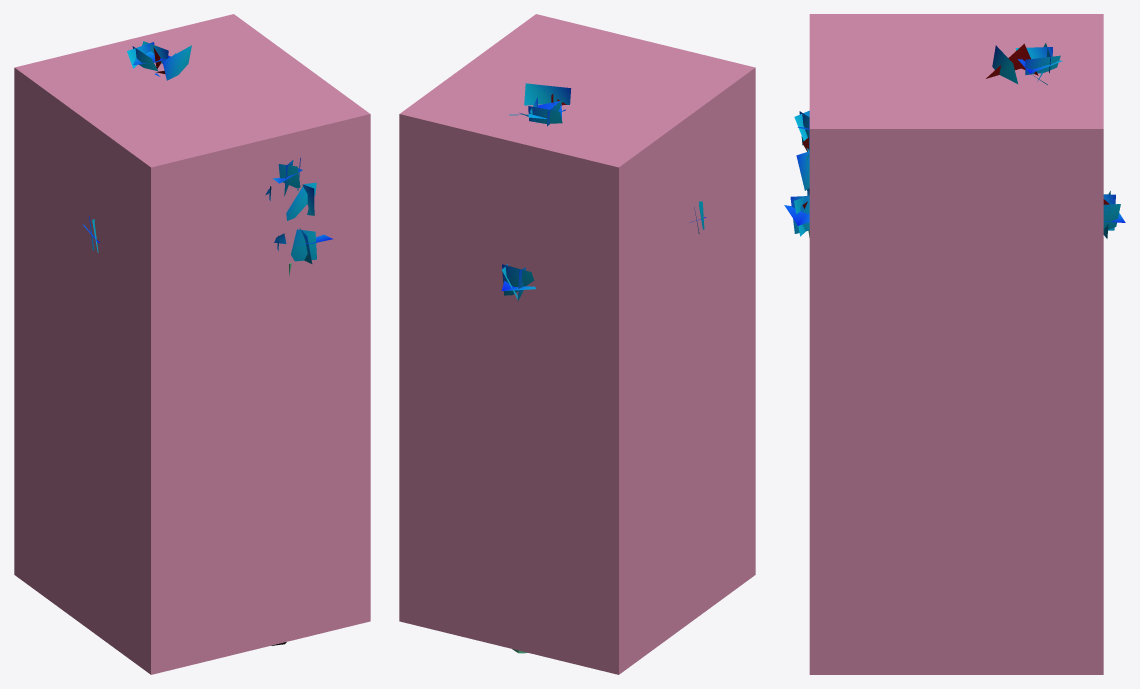
The model's file is tree_beech_forest_group.dae.
3 views of the same model, side by side, from view 1: azimuth 30°, elevation 25°; view 2: azimuth 150°, elevation 25°; view 3: azimuth 270°, elevation 25° (orthographic). The views are drawn at different scales.
Parts seen in each view (by area): view 1: Untitled, tree_oak_bush_a640, tree_oak_bush_a300; view 2: Untitled, tree_oak_bush_a640; view 3: Untitled, tree_oak_bush_a300, tree_oak_bush_a640.
Boxes of the visible parts, x1,y1,x2,y2 form: Untitled: (14,14,370,674); tree_oak_bush_a640: (83,41,332,645); tree_oak_bush_a300: (92,42,316,252); Untitled: (399,14,755,674); tree_oak_bush_a640: (501,83,705,301); Untitled: (809,14,1103,674); tree_oak_bush_a300: (790,43,1120,238); tree_oak_bush_a640: (784,47,1125,233).
Bounding box in the file's own units: 7.67 × 9.49 × 17.94.
